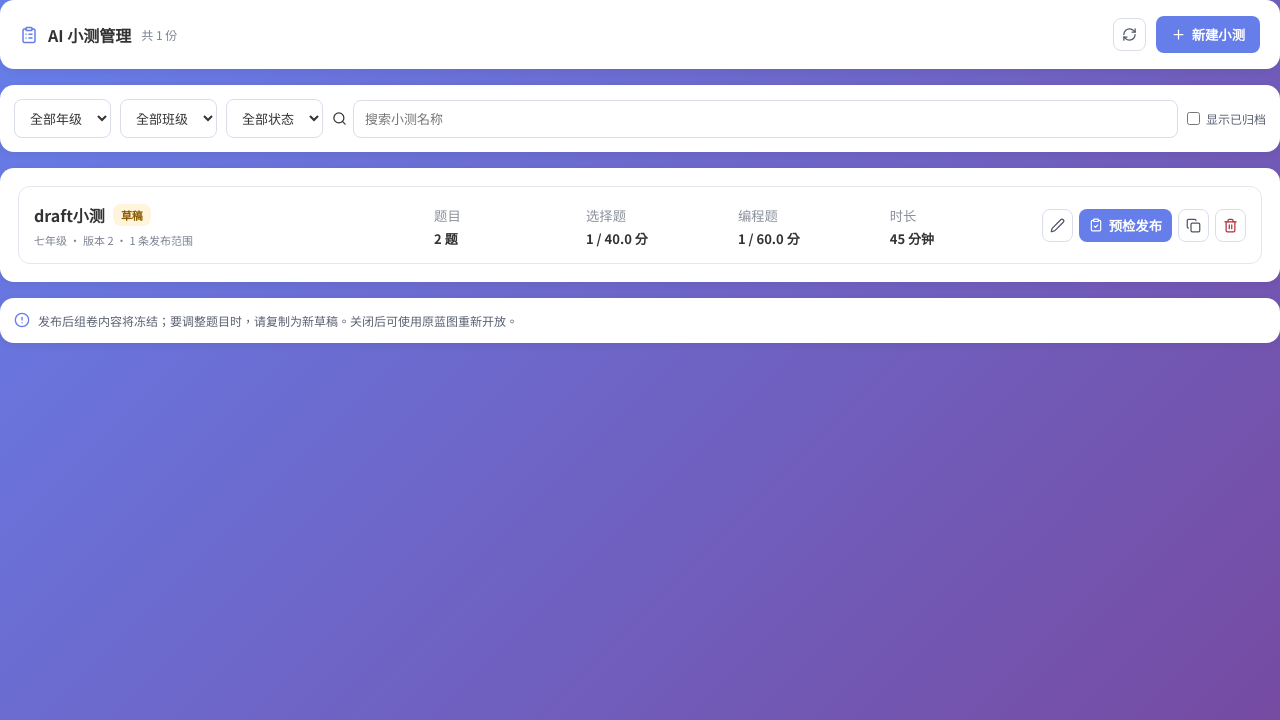
Test: AIQuizzesTab Step 8 › 精确展示服务端发布预检错误
Click the button "预检发布".
click(1125, 225)  # box x1=1079 y1=208 x2=1172 y2=242
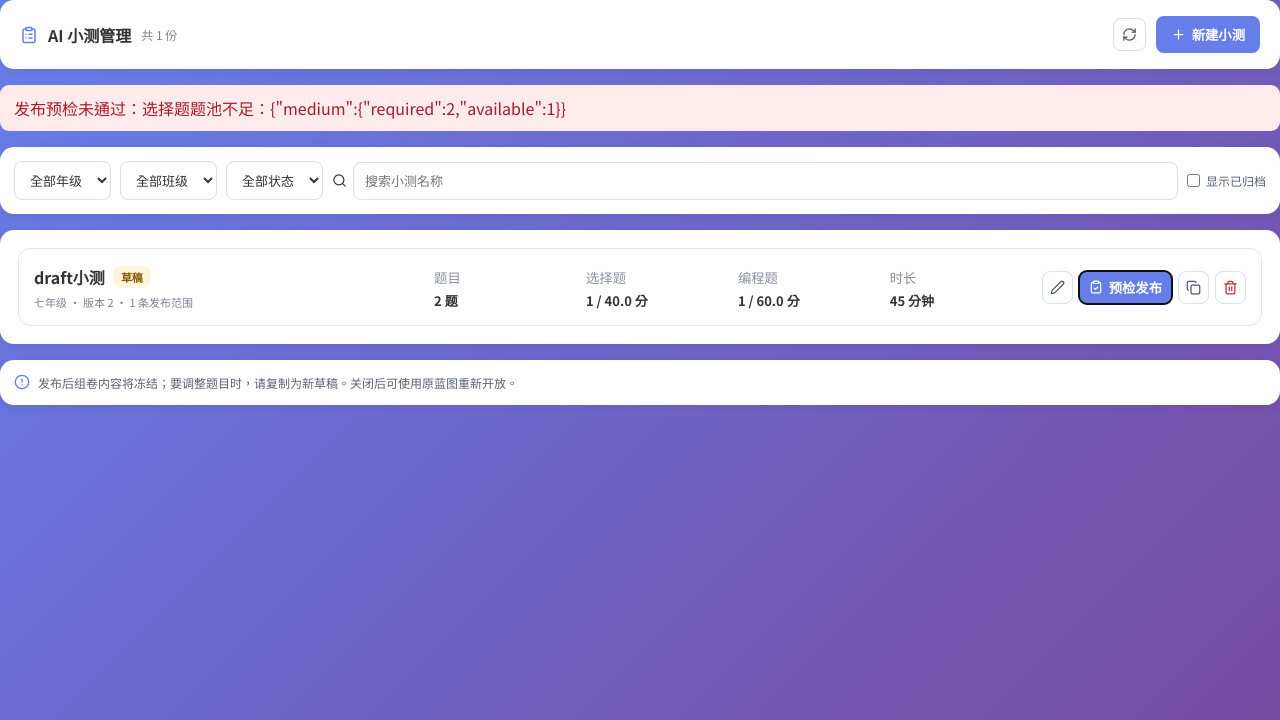
Check: the message shows "发布预检未通过：选择题题池不足", box x1=14 y1=96 x2=566 y2=120
